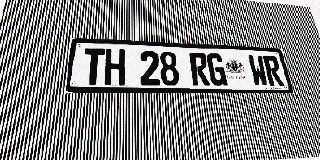2: (140, 50, 160, 85)
8: (159, 51, 180, 86)
G: (206, 53, 227, 86)
H: (104, 49, 125, 85)
R: (189, 52, 210, 86), (263, 55, 284, 86)
T: (82, 48, 105, 85)
W: (247, 55, 269, 86)
